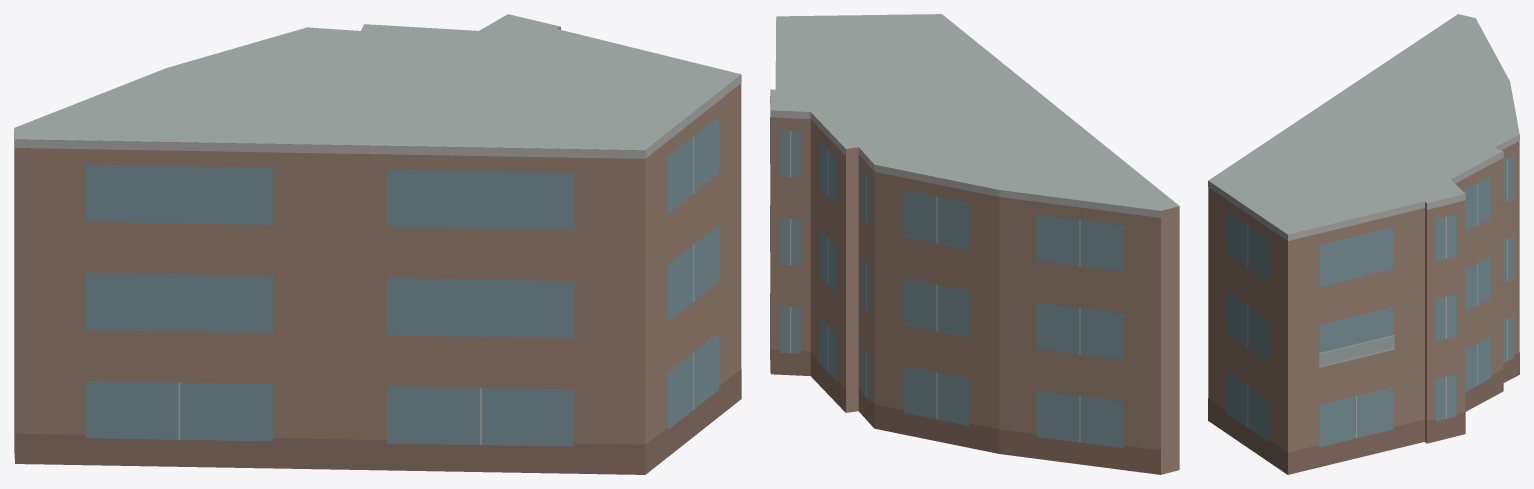
The model's file is survey-upis-32935054.glb.
3 renders of one model, left to right at view 1: azimuth 30°, elevation 25°; view 2: azimuth 150°, elevation 25°; view 3: azimuth 270°, elevation 25°, orthographic. The views are drawn at different scales.
Visible parts, largest first — view 1: survey-upis-32935054.tmp; view 2: survey-upis-32935054.tmp; view 3: survey-upis-32935054.tmp.
Part boxes in pixels (x1,y1,x2,y2): survey-upis-32935054.tmp: (14,14,741,474); survey-upis-32935054.tmp: (770,14,1179,474); survey-upis-32935054.tmp: (1208,14,1519,474).
Size of the model in its own units: 18.04 by 9.15 by 10.77.
